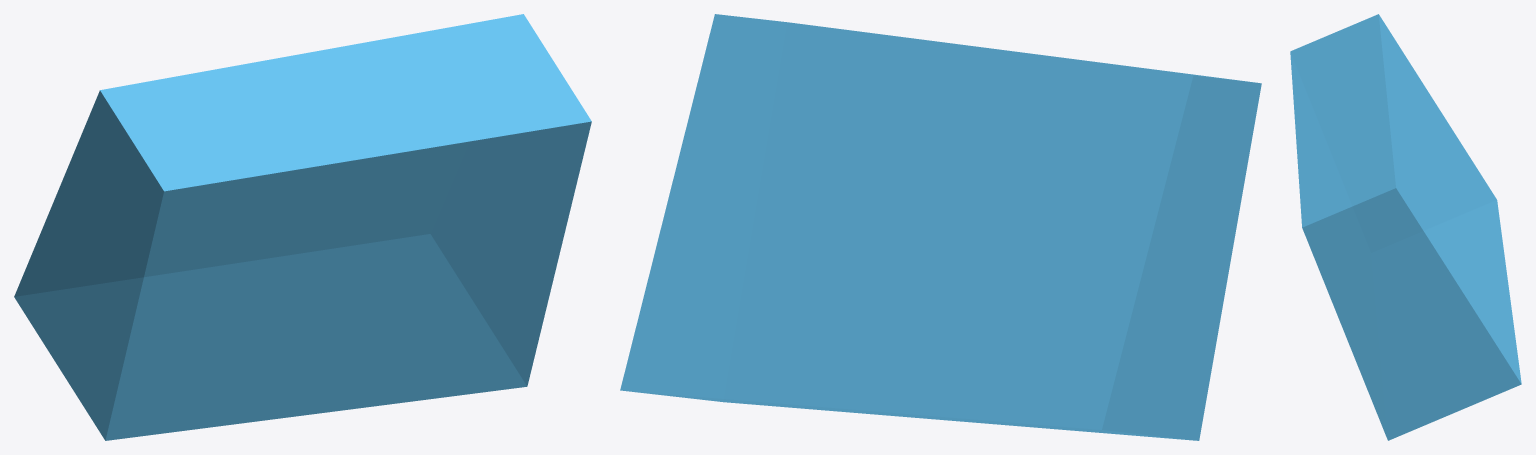
Rendered from Event_421115418_HErechit_116.fbx.
3 views of the same model, side by side, from view 1: azimuth 30°, elevation 25°; view 2: azimuth 150°, elevation 25°; view 3: azimuth 270°, elevation 25° (orthographic). The views are drawn at different scales.
Parts seen in each view (by area): view 1: Model; view 2: Model; view 3: Model.
Part boxes in pixels (x1,y1,x2,y2): Model: (14,14,591,440); Model: (620,14,1261,440); Model: (1290,14,1521,440).
Bounding box in the file's own units: 0.6856 × 0.6117 × 0.4569.
